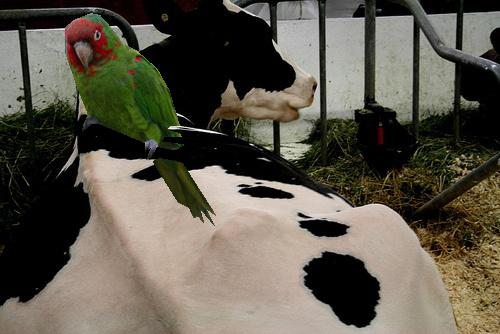tampered: (66, 14, 216, 227)
